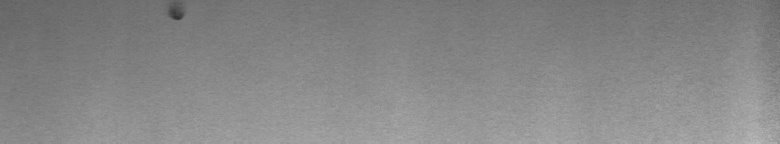fi: (164, 4, 188, 28)
